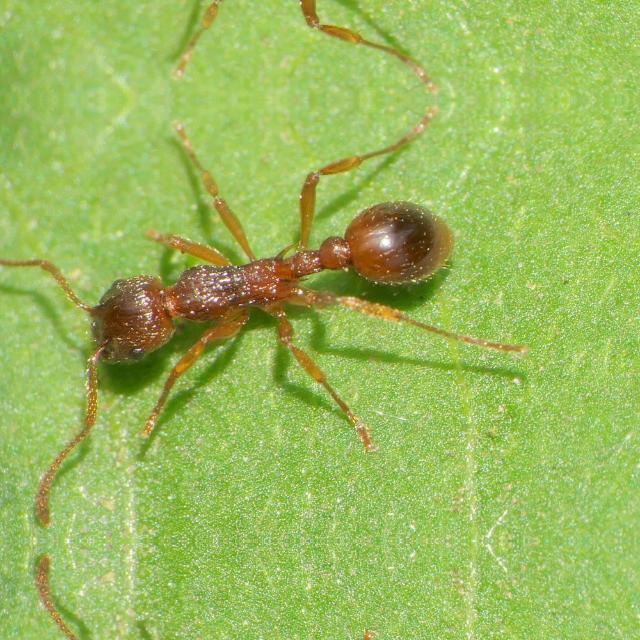Myrmica: (32, 150, 508, 406)
